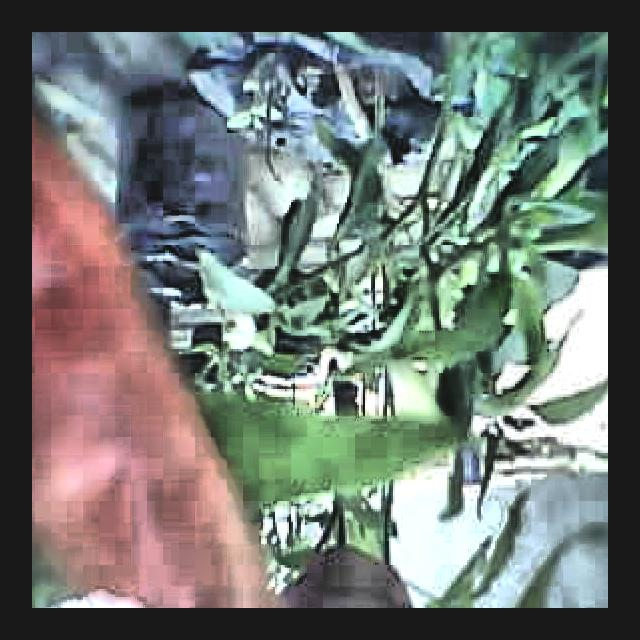Cabai: (32, 87, 245, 608)
